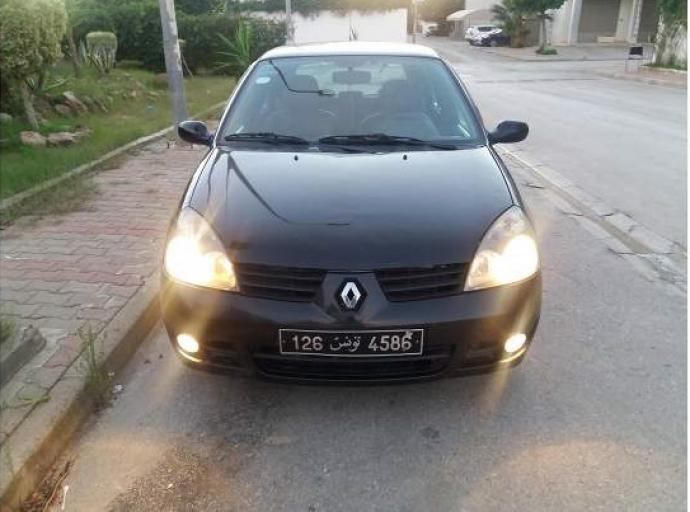LP: (275, 327, 429, 357)
